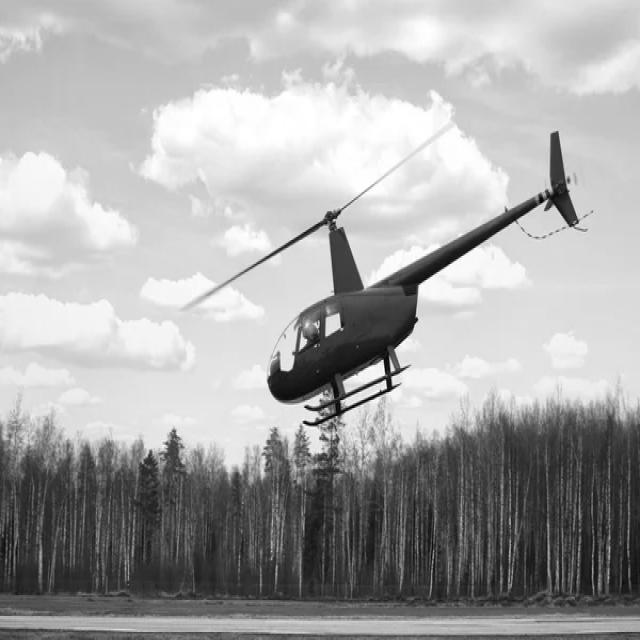Helicopter: (182, 112, 580, 426)
